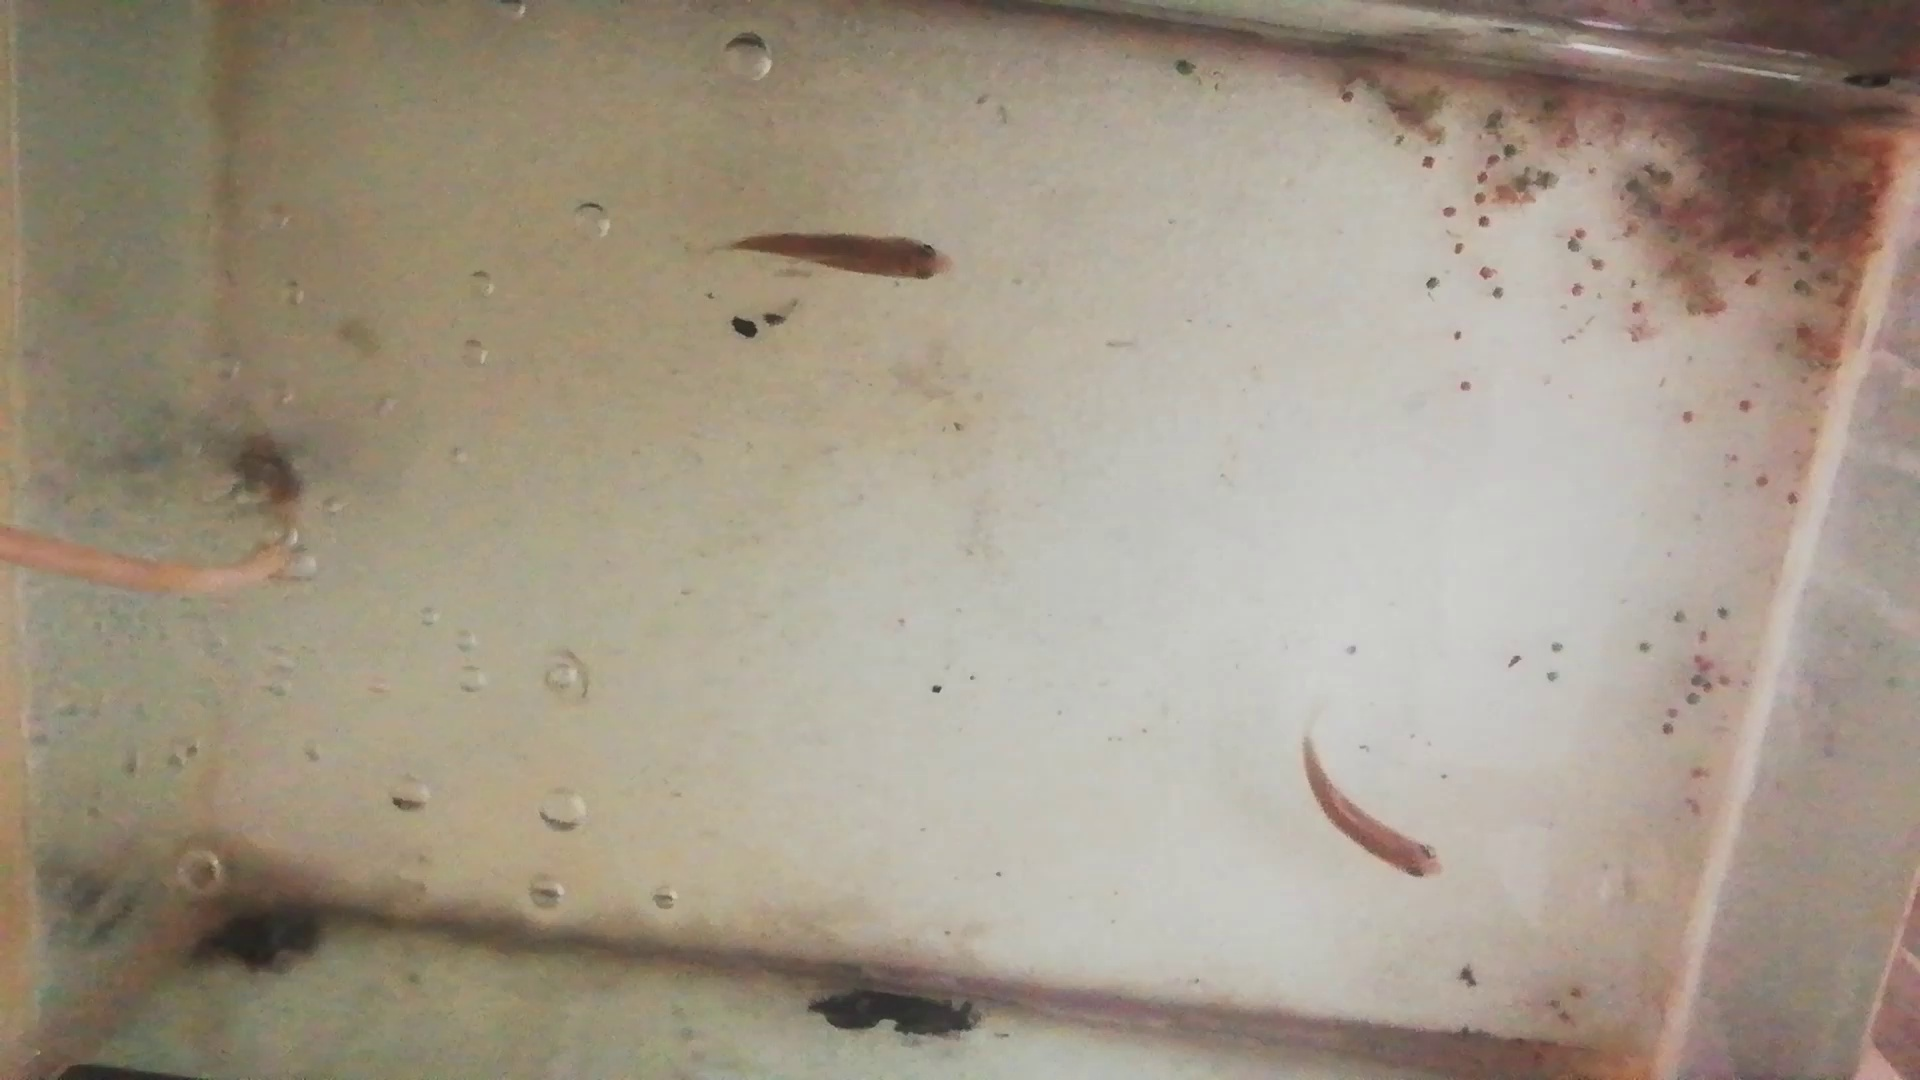fish: (1299, 735, 1445, 882), (735, 229, 955, 284)
